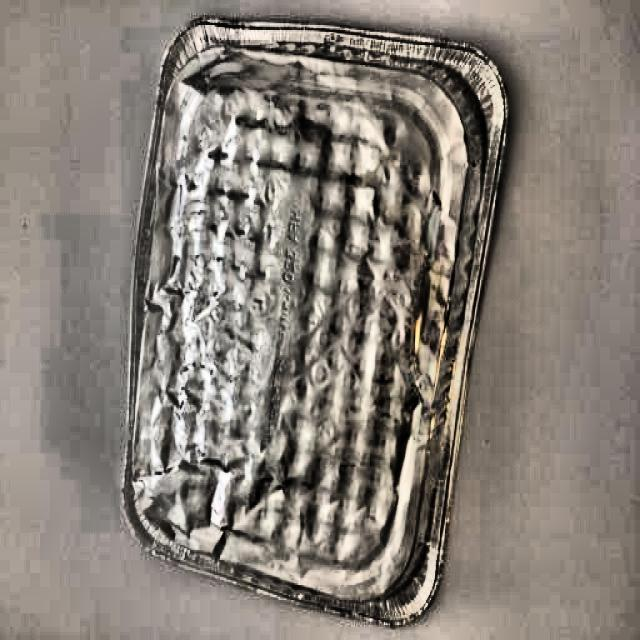metal: (125, 20, 504, 623)
